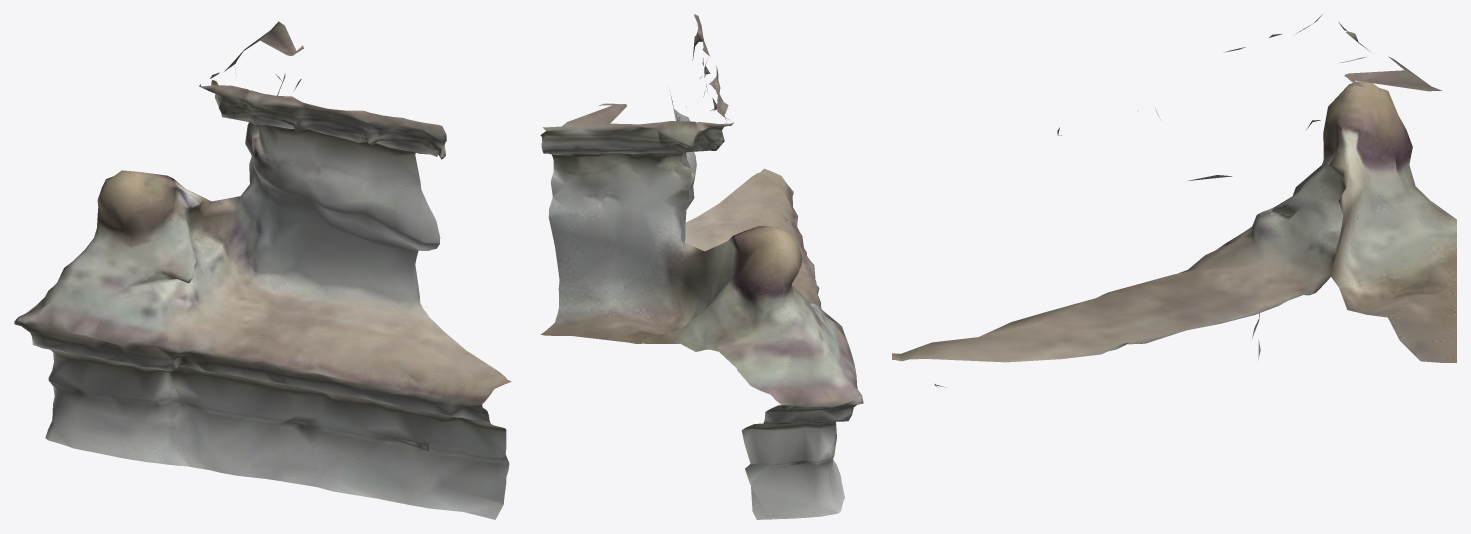
3 views of the same model, side by side, from view 1: azimuth 30°, elevation 25°; view 2: azimuth 150°, elevation 25°; view 3: azimuth 270°, elevation 25° (orthographic). The views are drawn at different scales.
Size of the model in its own units: 2.63 by 2.86 by 3.41.
Materials: 1 (1 with a texture image).
